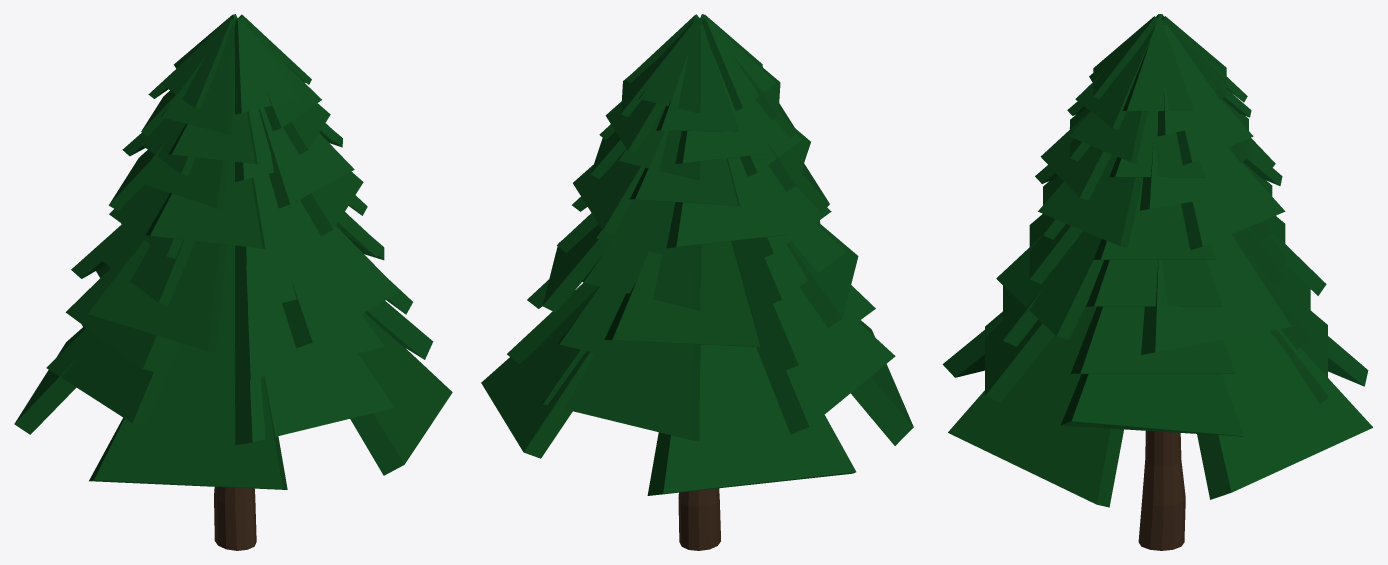
Rendered from SpruceTree.fbx.
The picture shows the model from 3 angles, left to right: view 1: azimuth 30°, elevation 25°; view 2: azimuth 150°, elevation 25°; view 3: azimuth 270°, elevation 25°; orthographic projection.
Visible parts, largest first — view 1: Leaves, Tree; view 2: Leaves, Tree; view 3: Leaves, Tree.
Part boxes in pixels (x1,y1,x2,y2): Leaves: (14, 14, 452, 489); Tree: (214, 487, 256, 550); Leaves: (481, 14, 913, 495); Tree: (678, 488, 720, 550); Leaves: (942, 14, 1372, 507); Tree: (1138, 430, 1185, 550).
Size of the model in its own units: 878 by 1180 by 877.
